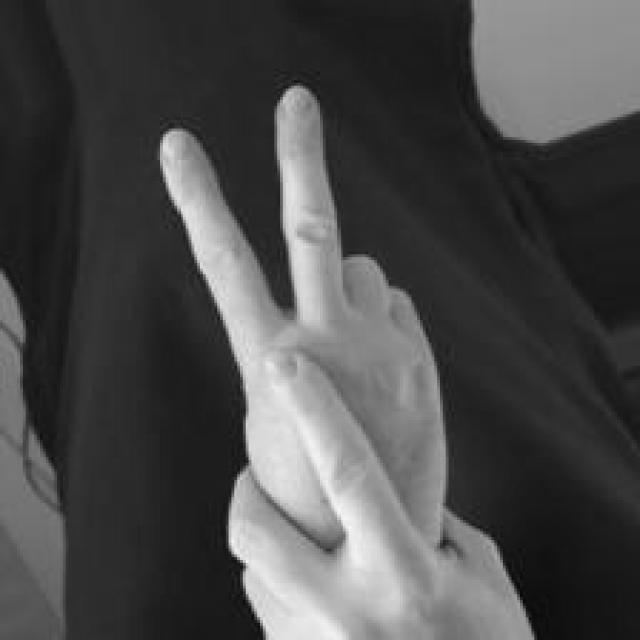Y: (152, 74, 534, 640)
